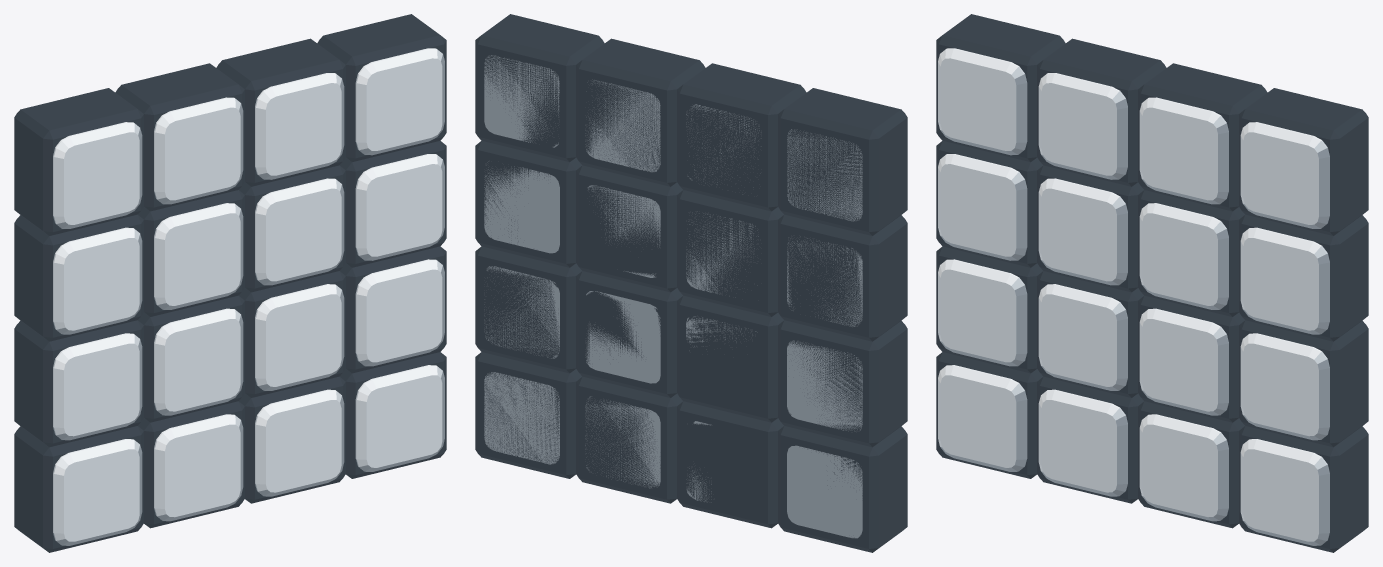
Rendered from Terrain_Block4x4.gltf.
3 views of the same model, side by side, from view 1: azimuth 30°, elevation 25°; view 2: azimuth 150°, elevation 25°; view 3: azimuth 330°, elevation 25° (orthographic).
Parts seen in each view (by area): view 1: Terrain_Block4x4_baked; view 2: Terrain_Block4x4_baked; view 3: Terrain_Block4x4_baked.
Part boxes in pixels (left/top/right/bottom): Terrain_Block4x4_baked: left=14, top=14, right=446, bottom=552; Terrain_Block4x4_baked: left=475, top=14, right=907, bottom=552; Terrain_Block4x4_baked: left=936, top=14, right=1368, bottom=552.
Size of the model in its own units: 4 by 4 by 0.7.
